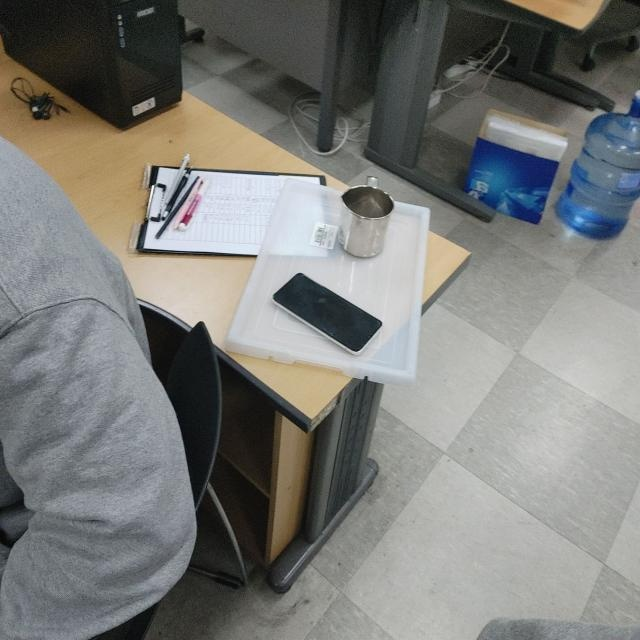cup: (337, 173, 395, 259)
phone: (270, 270, 388, 360)
